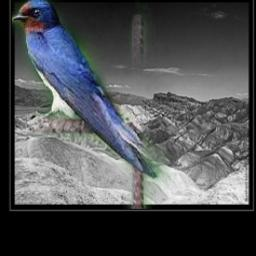Swallow: (13, 0, 217, 210)
